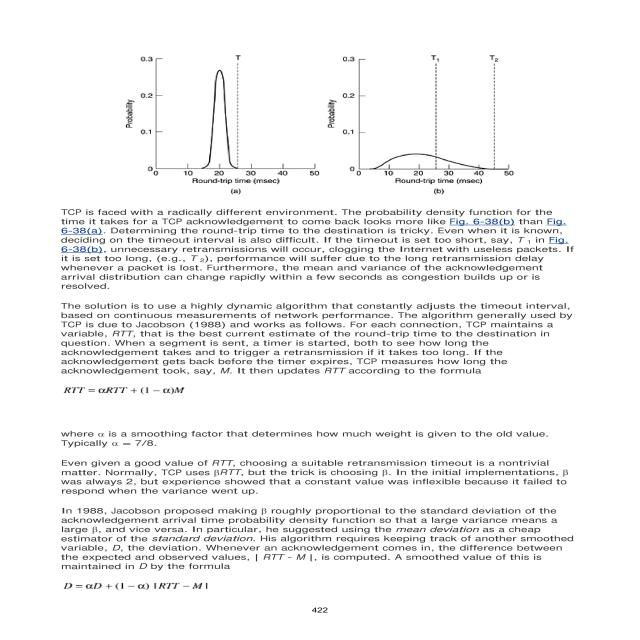diagram: (98, 28, 529, 196)
